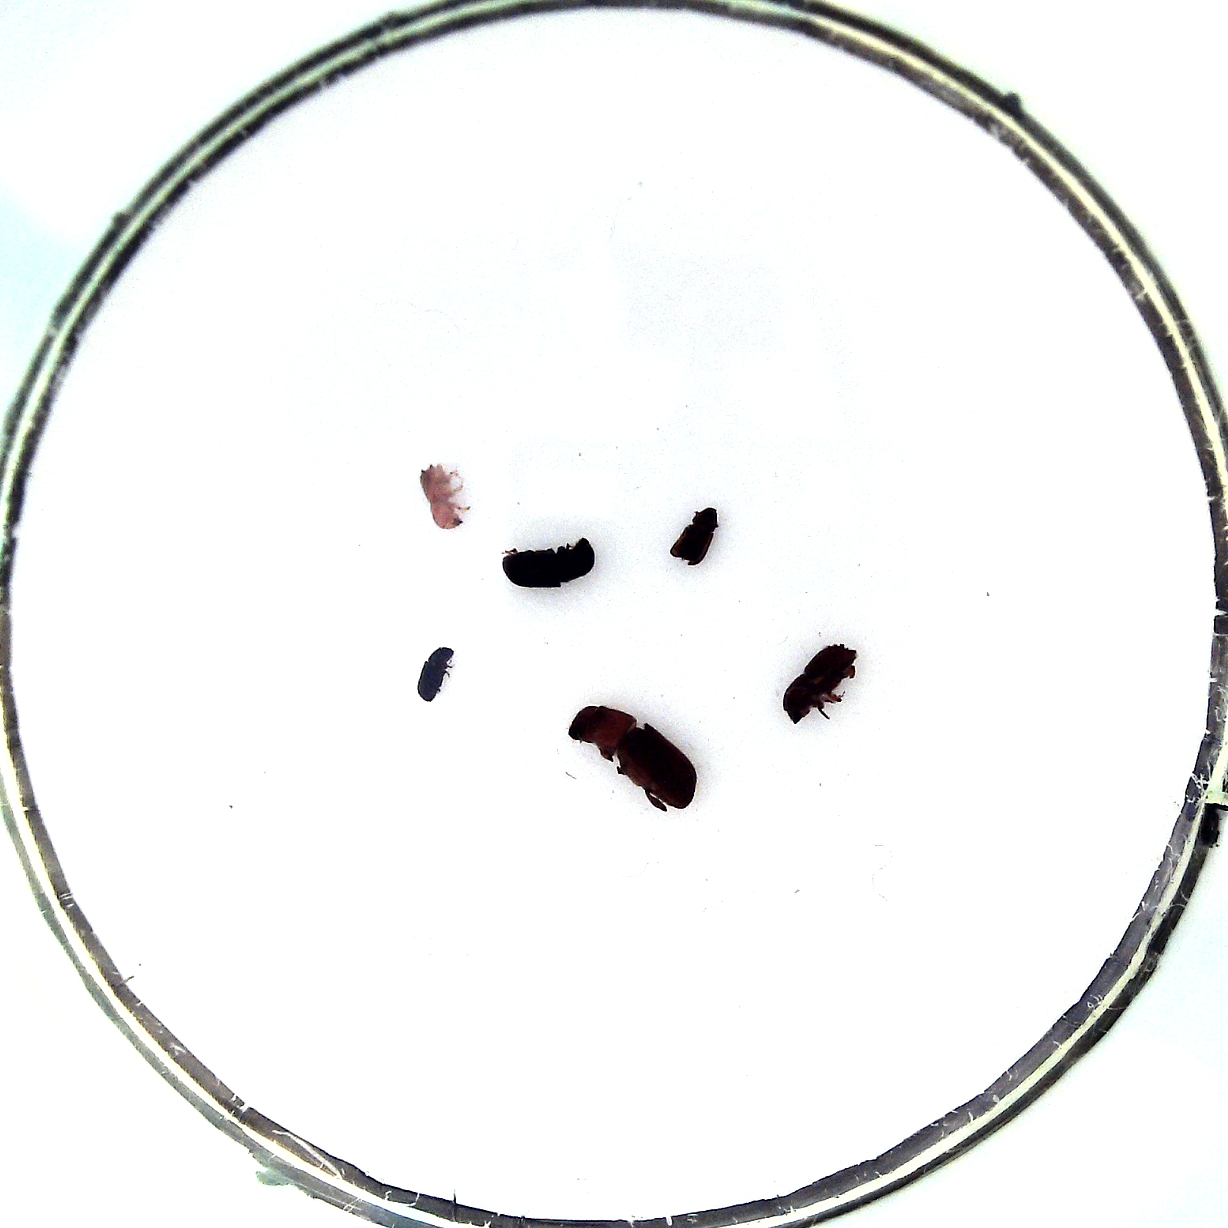Leconte: (567, 705, 695, 810)
acuminatus: (417, 645, 454, 701)
armandi: (502, 538, 594, 588)
coleoptera: (419, 462, 464, 529), (670, 507, 717, 565)
linnaeus: (783, 645, 858, 724)
